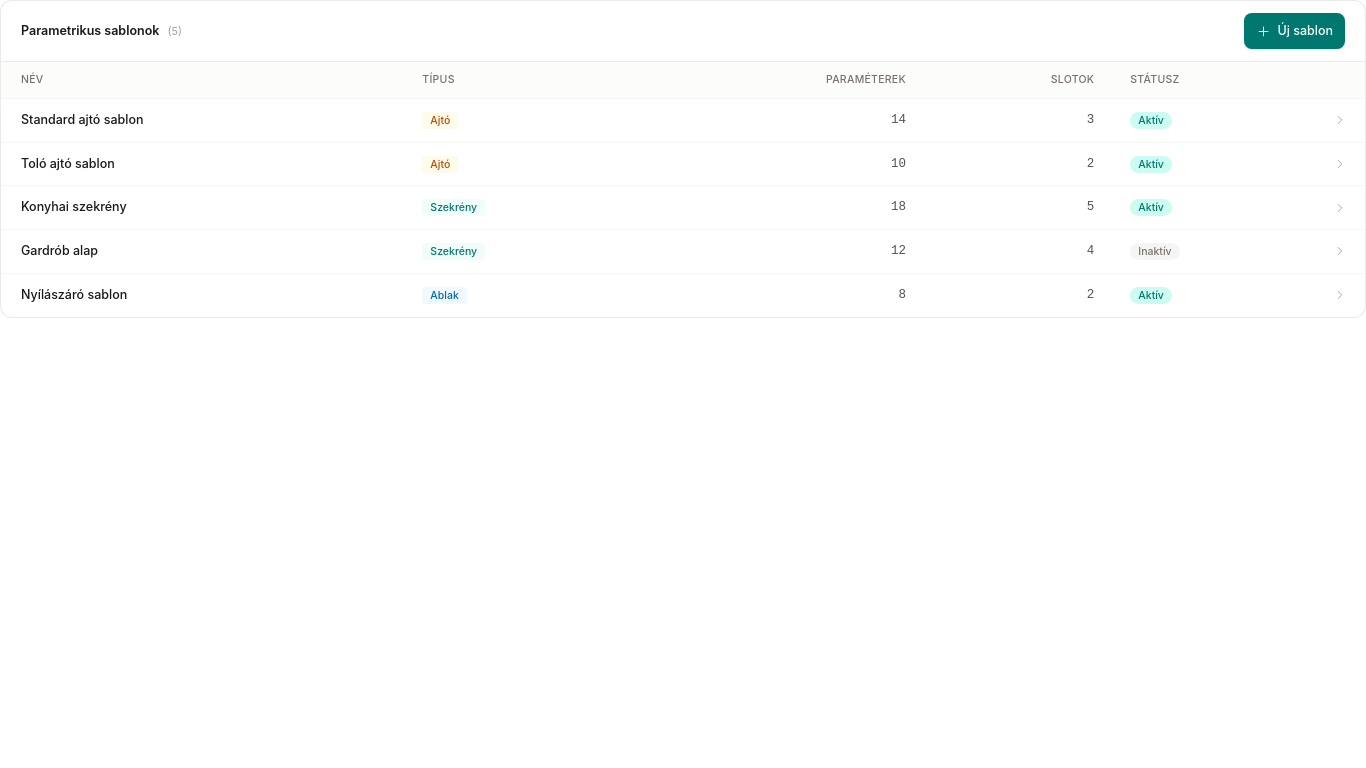
Test: TemplatesPanel › clicking a row opens detail SlideOver
Click the text "Standard ajtó sablon".
click(82, 119)  # box left=1, top=98, right=406, bottom=142
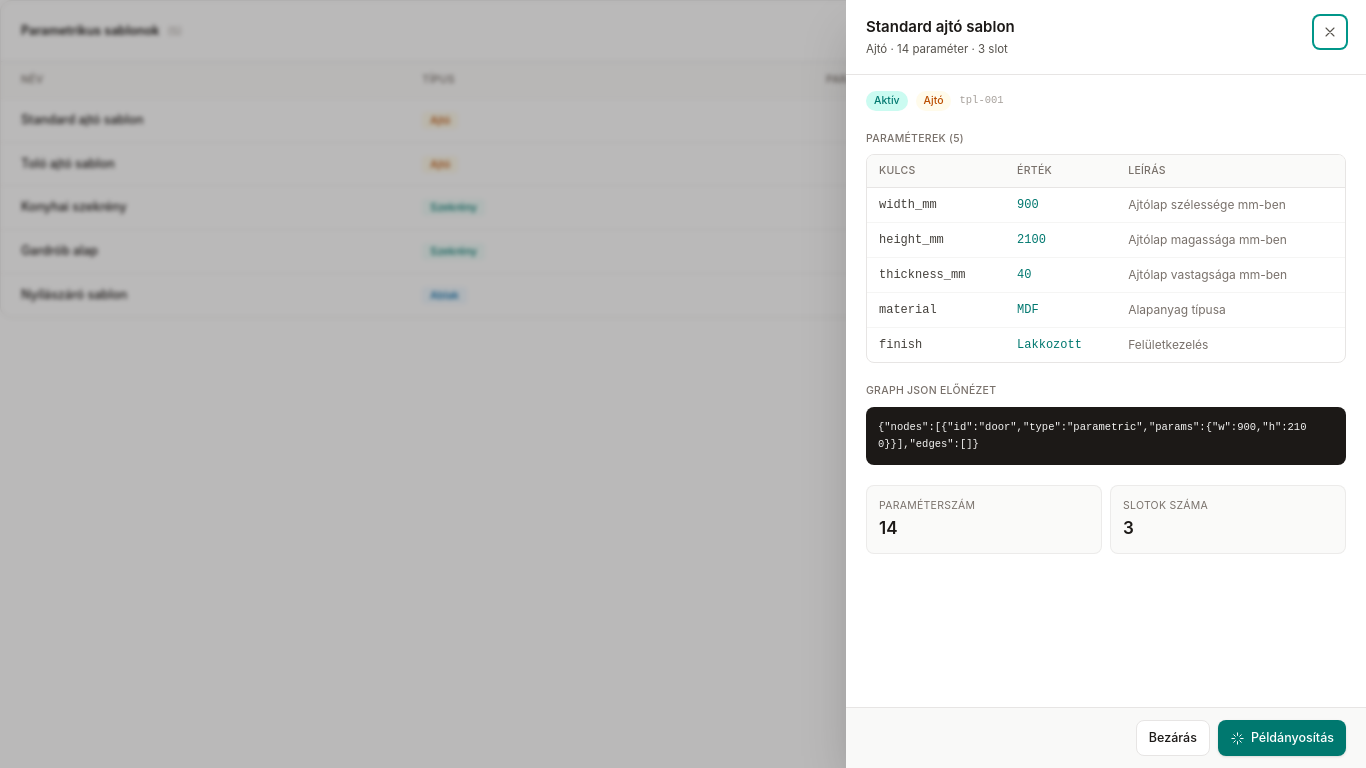
Expected: the text "Paraméterek (5)" is shown, left=866, top=132, right=964, bottom=144
